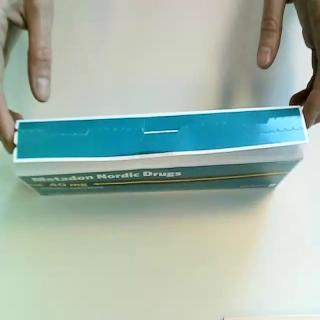metadon_hydrochlorid40mg: (12, 104, 311, 200)
